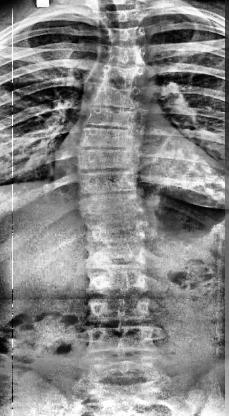Vertebrae: (84, 326, 164, 354), (86, 272, 152, 302), (90, 298, 156, 326), (75, 146, 138, 174), (84, 246, 150, 272), (80, 198, 146, 224), (77, 128, 136, 154), (73, 172, 139, 194), (88, 226, 150, 248), (85, 107, 141, 129), (94, 82, 142, 106), (101, 61, 145, 82), (105, 42, 149, 60), (106, 22, 148, 40), (105, 8, 143, 24)
